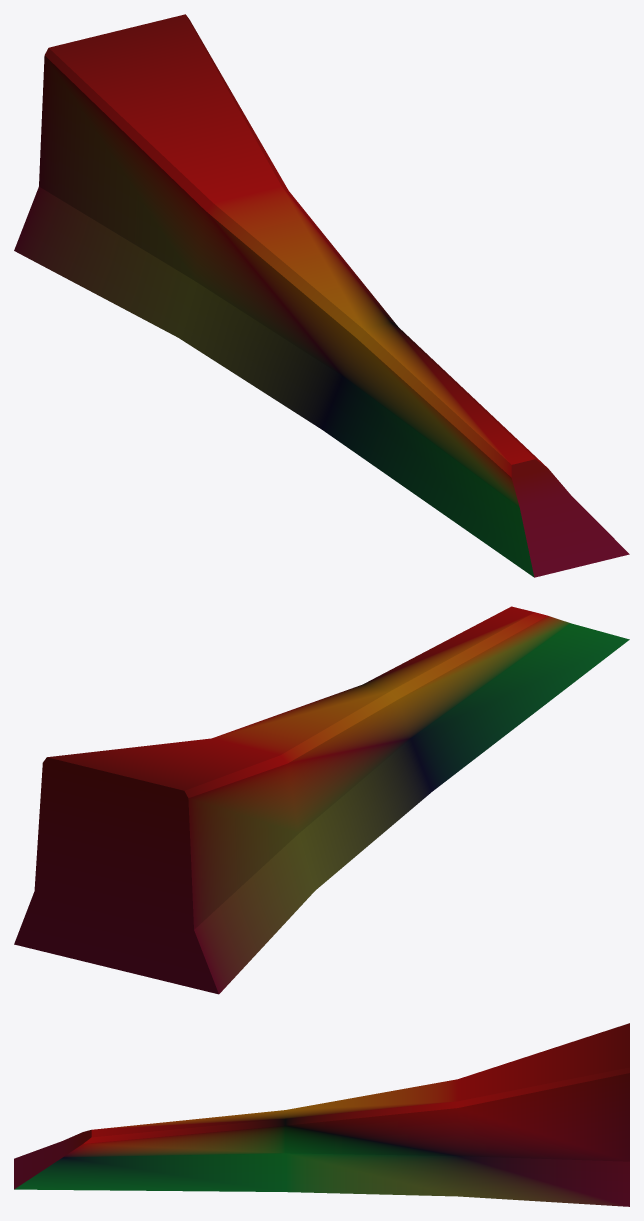
File: Road_Barrier_Concrete_End.fbx
The picture shows the model from 3 angles, top to bottom: view 1: azimuth 30°, elevation 25°; view 2: azimuth 150°, elevation 25°; view 3: azimuth 270°, elevation 25°; orthographic projection. The views are drawn at different scales.
Visible parts, largest first — view 1: Road_Barrier_End; view 2: Road_Barrier_End; view 3: Road_Barrier_End.
Boxes of the visible parts, bbox=[...] form: Road_Barrier_End: bbox=[14, 14, 629, 577]; Road_Barrier_End: bbox=[14, 606, 629, 994]; Road_Barrier_End: bbox=[14, 1023, 629, 1206].
Size of the model in its own units: 0.9707 by 0.883 by 3.82.
